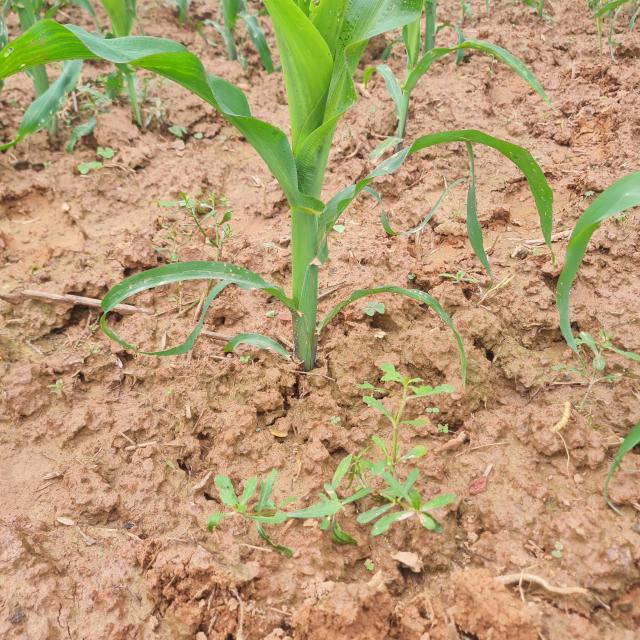maize: (52, 0, 507, 413)
weed: (323, 450, 460, 543), (350, 341, 447, 462), (192, 456, 304, 559), (159, 183, 253, 252), (54, 141, 142, 184), (574, 315, 626, 379)
